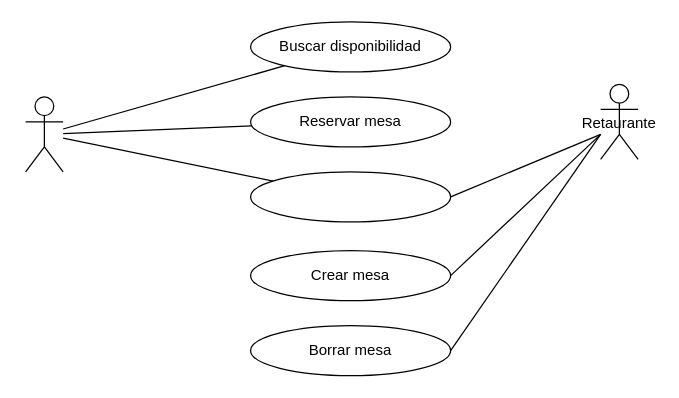
This 679x398 diagram has some shape labels left out. The centre of each missing label's shape, as x and y in pixels:
"Cancelar reserva" goes at [350,196].
"Cliente" goes at [43,134].
